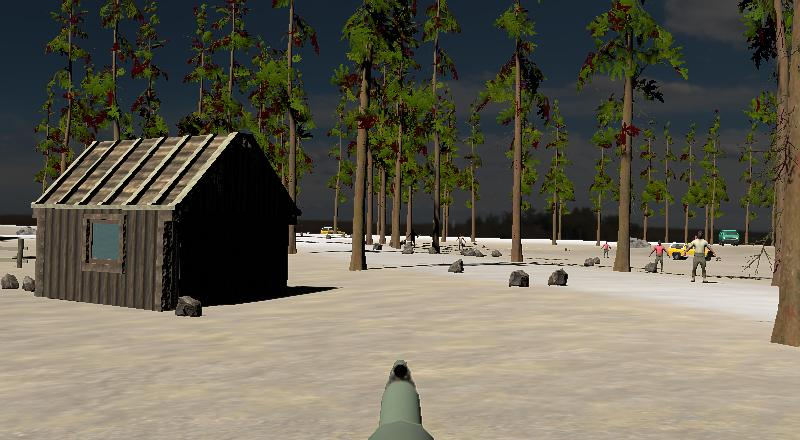House: (31, 131, 298, 309)
Human: (684, 230, 715, 283), (649, 240, 669, 275)
car: (664, 240, 690, 262), (718, 228, 740, 247)
